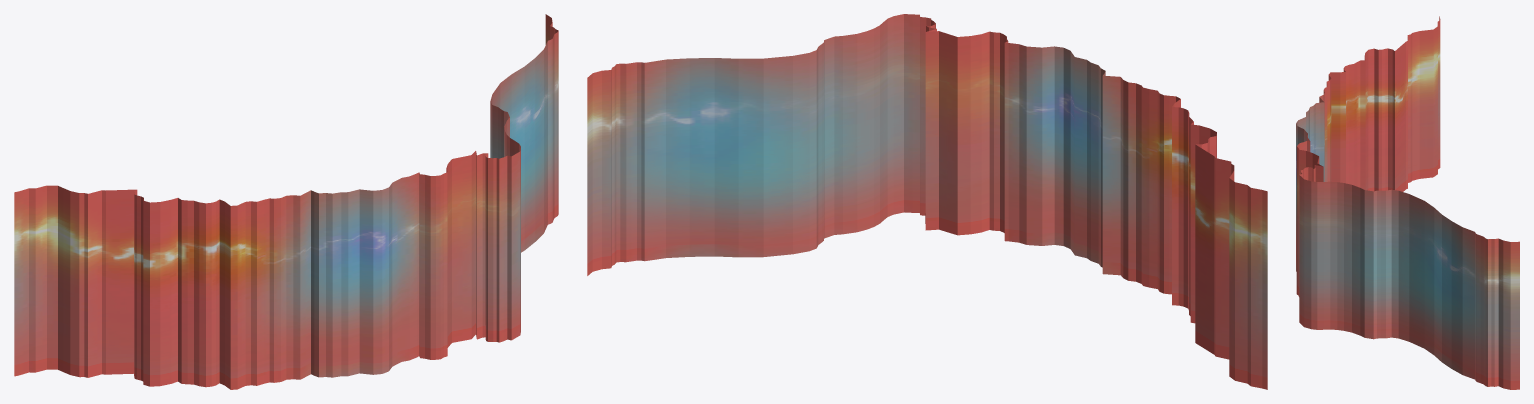
File: chengzhen001 glow.FBX
The picture shows the model from 3 angles, left to right: view 1: azimuth 30°, elevation 25°; view 2: azimuth 150°, elevation 25°; view 3: azimuth 270°, elevation 25°; orthographic projection. The views are drawn at different scales.
Visible parts, largest first — view 1: chengzhen001; view 2: chengzhen001; view 3: chengzhen001.
Part boxes in pixels (bbox=[...]): chengzhen001: bbox=[14, 14, 558, 389]; chengzhen001: bbox=[587, 14, 1267, 389]; chengzhen001: bbox=[1296, 16, 1519, 389].
Size of the model in its own units: 15.97 by 4.83 by 6.63.
